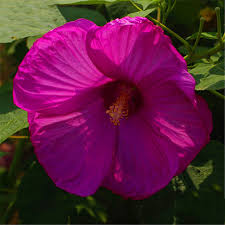hybiscus: (12, 17, 214, 199)
